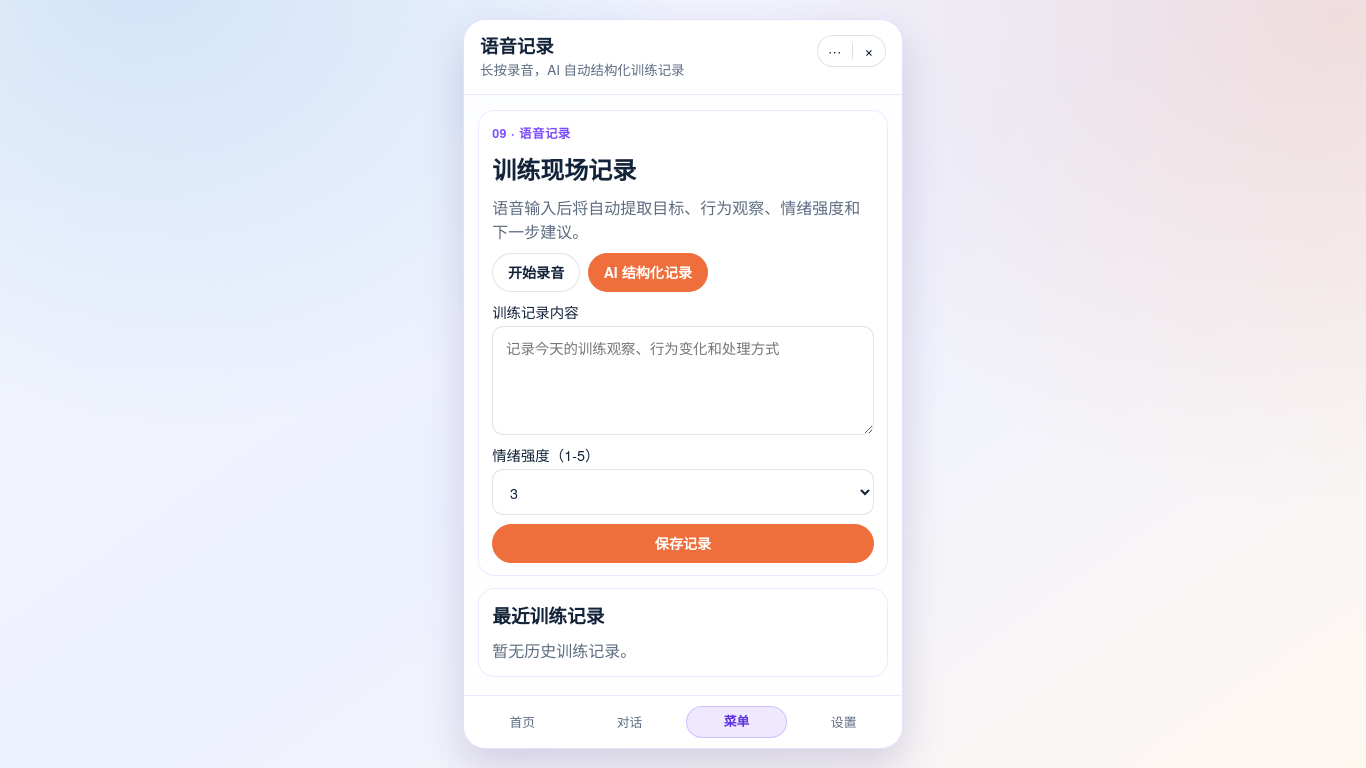
it: VoiceRecordPage › saves note to life records and shows success state
Type "今天在任务切换时出现哭闹，2分钟后恢复" into the text box labelled "训练记录内容".
click(683, 381); type("今天在任务切换时出现哭闹，2分钟后恢复")  # box [492,326,874,435]
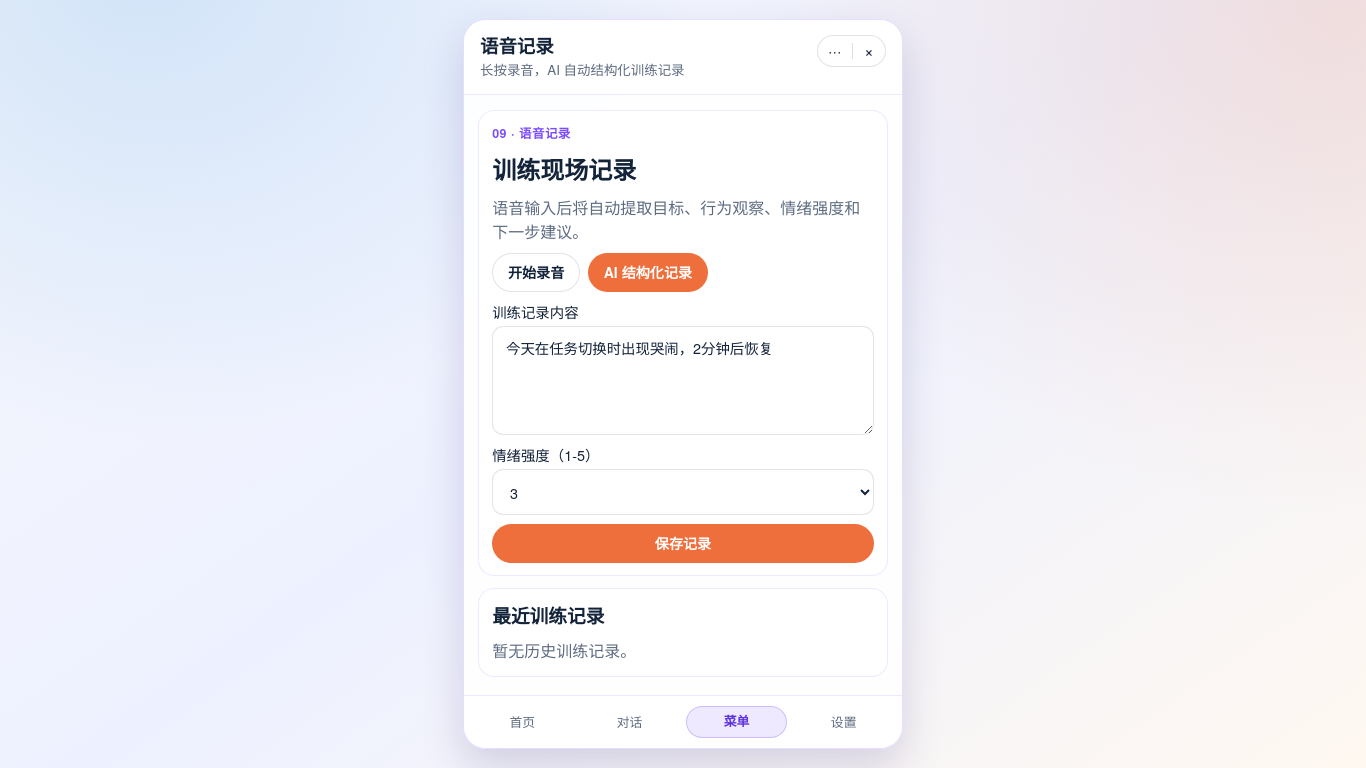
Click the button "保存记录".
click(683, 543)  # box [492,524,874,563]
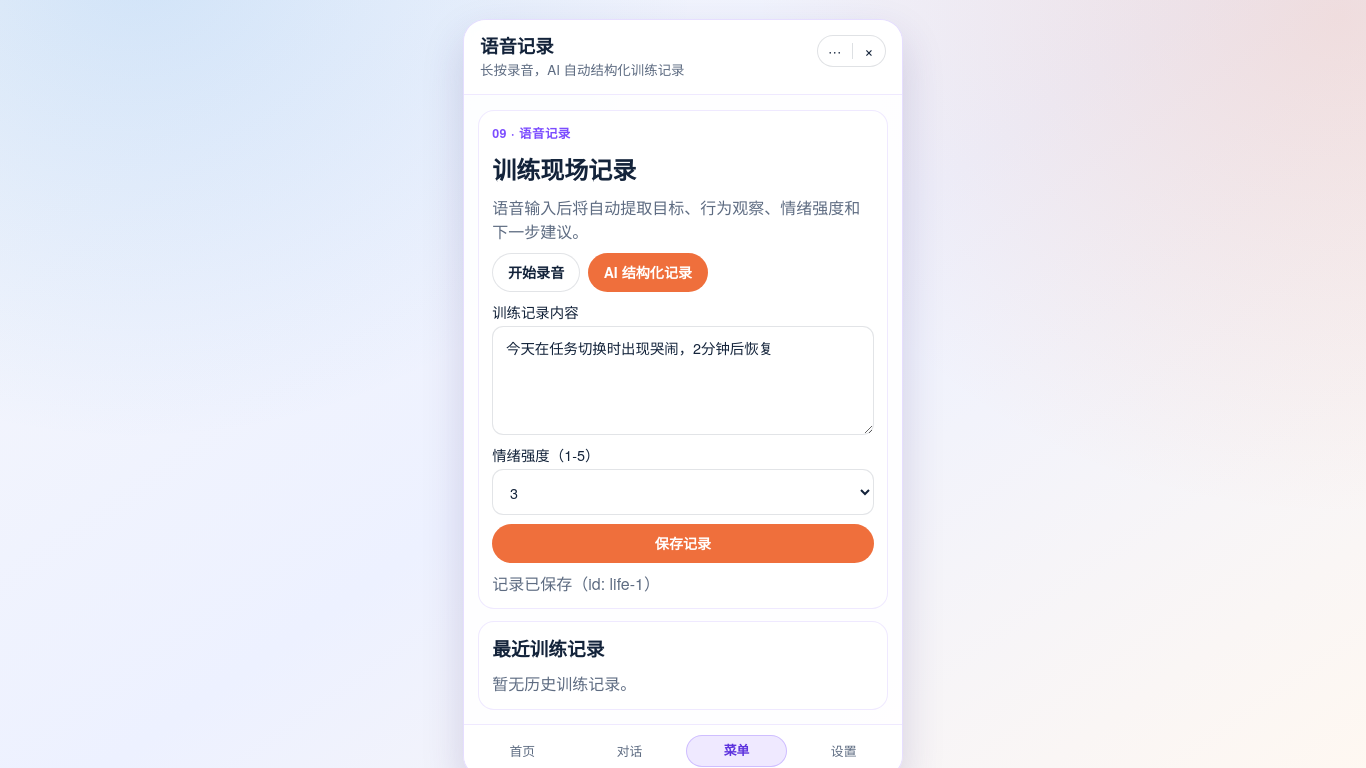
Expected: the text "记录已保存（id: life-1）" is shown, [492,572,660,595]
